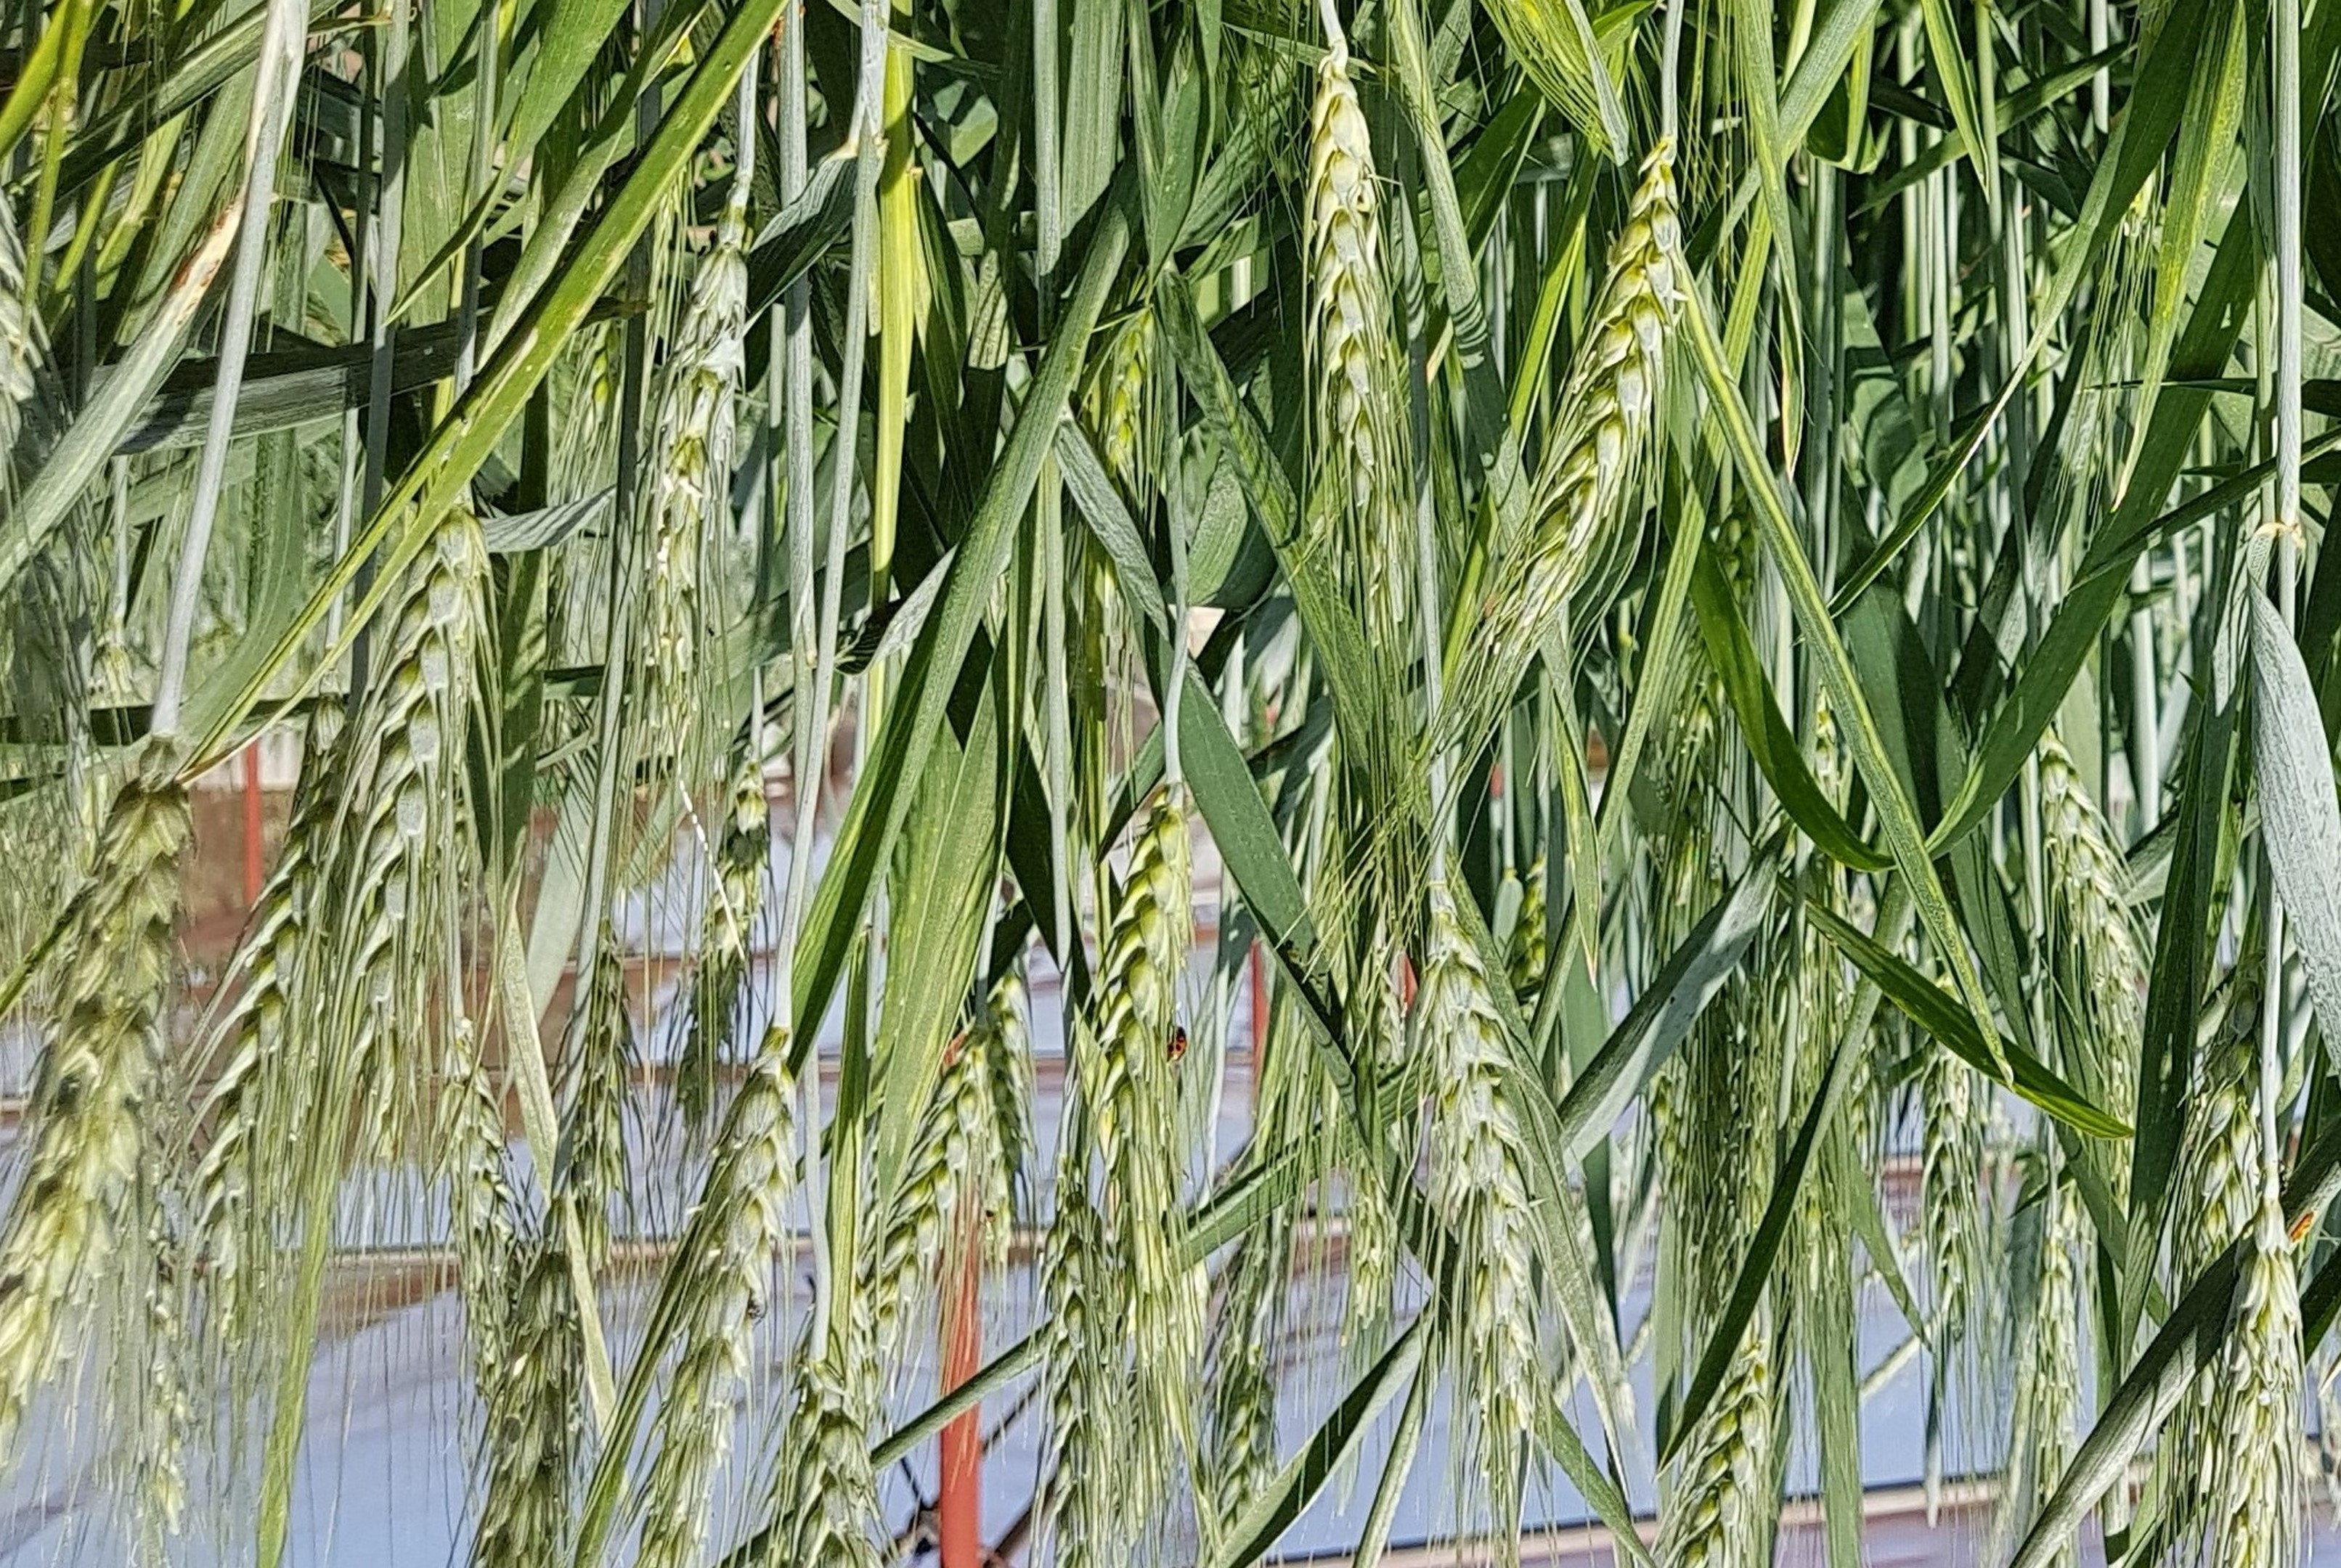Healthy Wheat: (301, 497, 514, 1022), (1405, 915, 1597, 1454), (1517, 152, 1711, 630), (1282, 63, 1419, 635)
